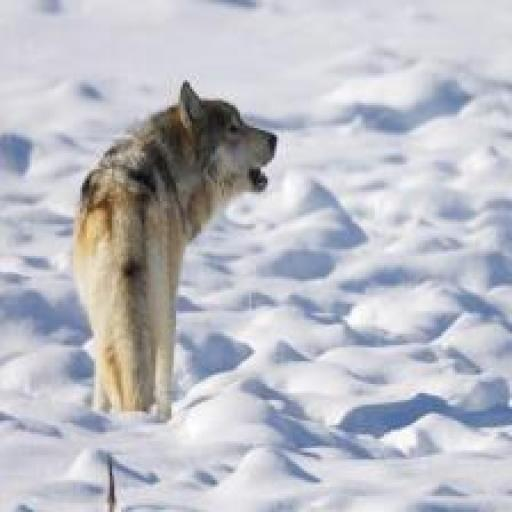wolf: (71, 75, 279, 422)
